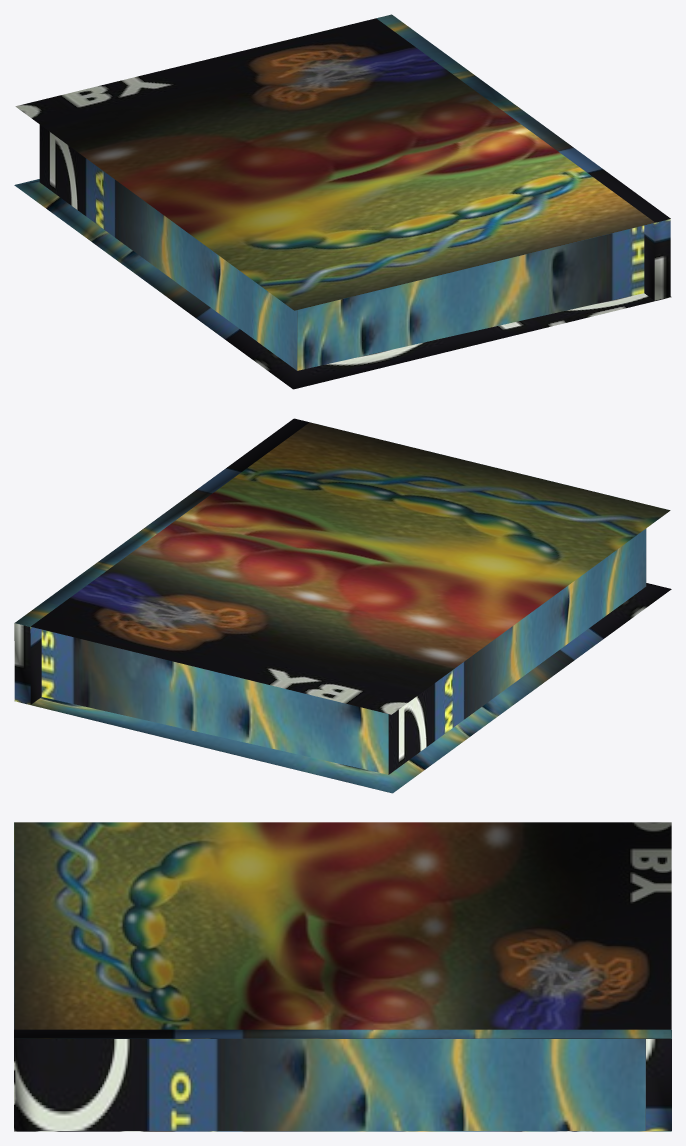
Rendered from book1.obj.
3 renders of one model, top to bottom at view 1: azimuth 30°, elevation 25°; view 2: azimuth 150°, elevation 25°; view 3: azimuth 270°, elevation 25°, orthographic. The views are drawn at different scales.
Visible parts, largest first — view 1: Cube; view 2: Cube; view 3: Cube.
Boxes of the visible parts, x1,y1,x2,y2 form: Cube: [14, 14, 671, 389]; Cube: [14, 418, 671, 793]; Cube: [14, 822, 671, 1131].
Bounding box in the file's own units: 1.57 × 0.3098 × 2.
